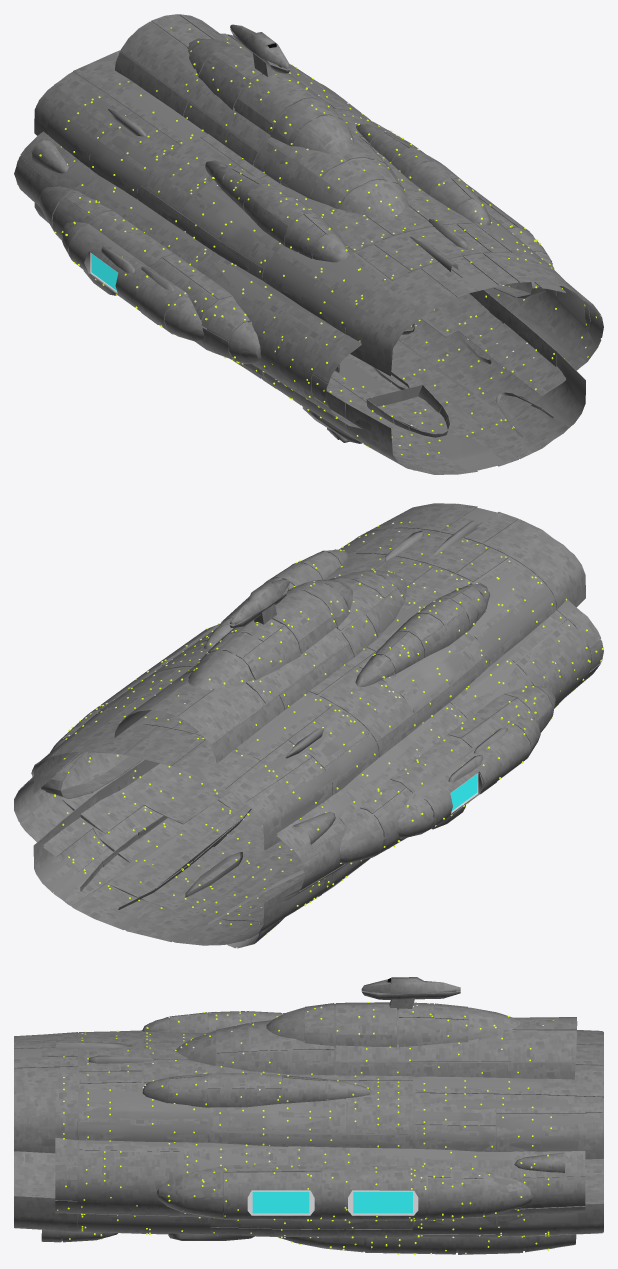
File: capital_part2.glb
The picture shows the model from 3 angles, top to bottom: view 1: azimuth 30°, elevation 25°; view 2: azimuth 150°, elevation 25°; view 3: azimuth 270°, elevation 25°; orthographic projection. The views are drawn at different scales.
Visible parts, largest first — view 1: Engines_2; view 2: Engines_2; view 3: Engines_2.
Boxes of the visible parts, x1,y1,x2,y2 form: Engines_2: (14, 14, 603, 474); Engines_2: (14, 503, 603, 948); Engines_2: (14, 977, 603, 1254).
Bounding box in the file's own units: 312 × 247 × 517.
Materials: 2 (2 with a texture image).
